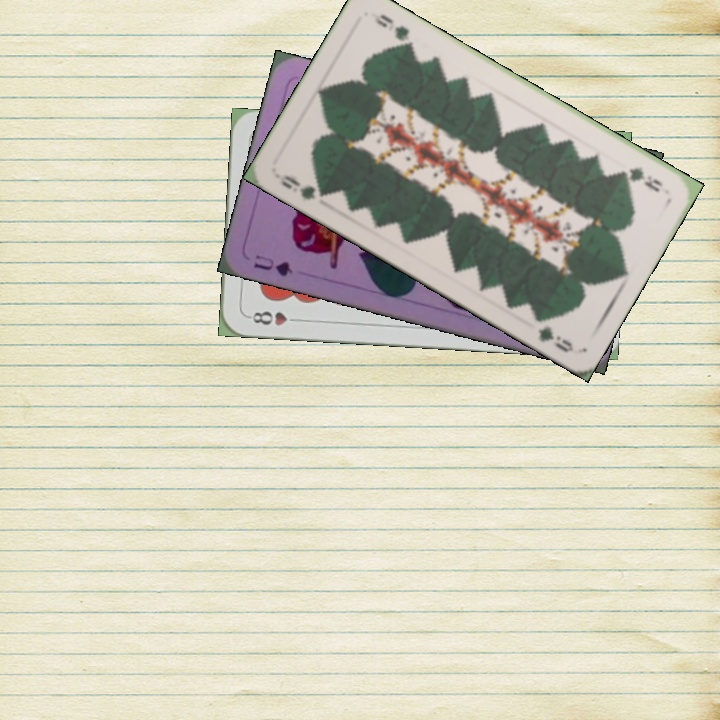G9: (272, 170, 331, 203), (613, 162, 666, 195)
GU: (249, 250, 296, 279)
H8: (244, 307, 303, 328)
